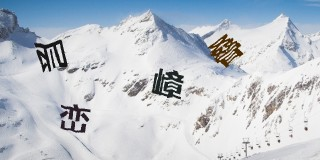叠: (206, 33, 244, 70)
层: (32, 39, 68, 72)
峦: (59, 102, 92, 134)
嶂: (152, 68, 183, 102)
